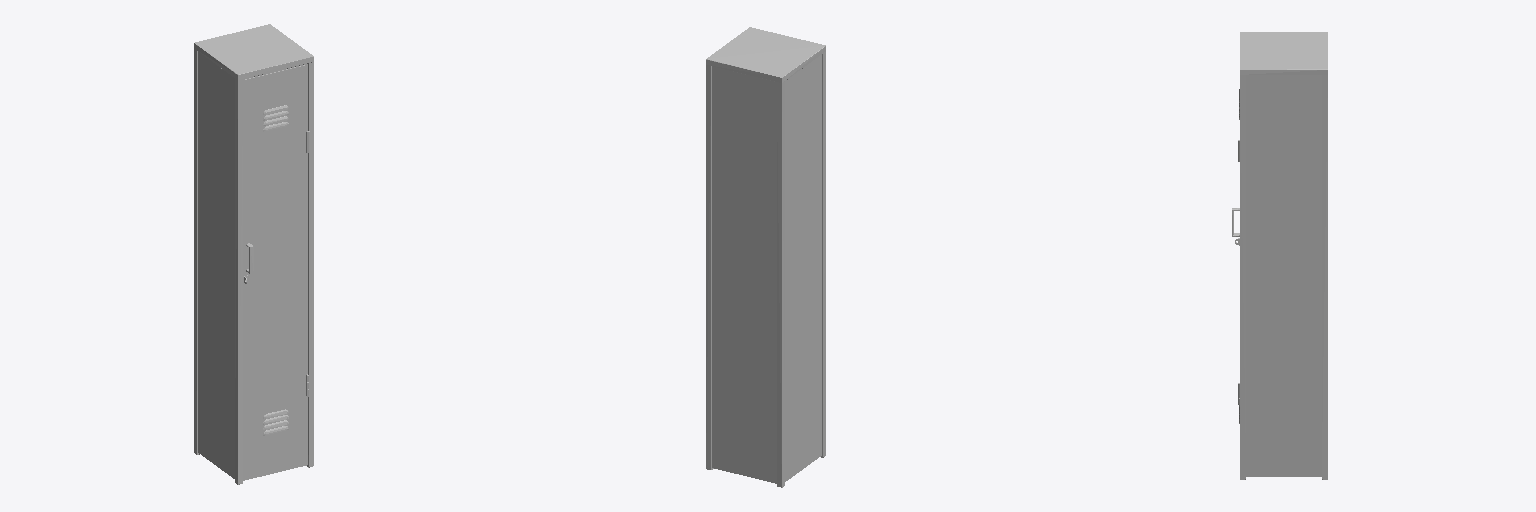
File: locker_LoD_3.obj
3 views of the same model, side by side, from view 1: azimuth 30°, elevation 25°; view 2: azimuth 150°, elevation 25°; view 3: azimuth 270°, elevation 25° (orthographic).
Parts seen in each view (by area): view 1: SM_LockerClosed_Mesh.005; view 2: SM_LockerClosed_Mesh.005; view 3: SM_LockerClosed_Mesh.005.
Part boxes in pixels (x1,y1,x2,y2): SM_LockerClosed_Mesh.005: (194,24,313,484); SM_LockerClosed_Mesh.005: (706,27,825,487); SM_LockerClosed_Mesh.005: (1232,32,1327,479).
Size of the model in its own units: 0.3519 by 1.8 by 0.3832.